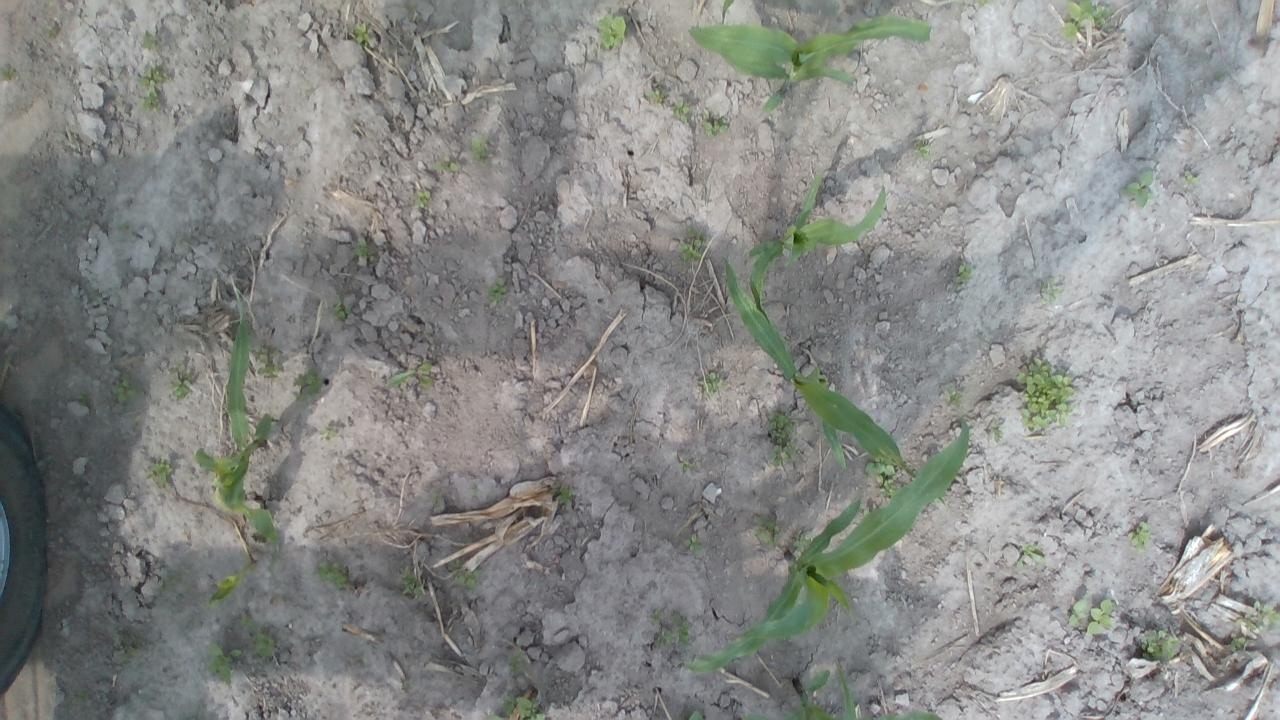Maize: (682, 416, 970, 672), (722, 256, 916, 478), (688, 18, 932, 115), (744, 167, 886, 314), (197, 312, 280, 542), (801, 668, 828, 718), (844, 661, 858, 720), (864, 712, 940, 720), (719, 0, 737, 21), (686, 708, 706, 720), (740, 716, 769, 720)
Weeds: (1016, 358, 1078, 431), (1064, 0, 1106, 37), (490, 697, 547, 720), (1122, 167, 1154, 207), (136, 65, 164, 110), (1138, 629, 1180, 658), (770, 414, 793, 466), (208, 644, 241, 680), (659, 611, 693, 645), (753, 510, 784, 545), (1085, 600, 1115, 636), (598, 15, 626, 50), (148, 456, 175, 488), (258, 346, 284, 378), (866, 460, 895, 488), (471, 130, 492, 160), (112, 379, 136, 404), (1018, 546, 1044, 568), (385, 369, 415, 388), (294, 374, 324, 393), (702, 116, 730, 136), (1255, 602, 1280, 624), (672, 95, 691, 123), (1066, 598, 1087, 623), (70, 688, 96, 708), (681, 237, 702, 261), (1128, 522, 1148, 547), (958, 254, 974, 285), (416, 360, 431, 392), (255, 633, 277, 654), (552, 480, 572, 503), (170, 380, 190, 399), (432, 487, 447, 512), (430, 156, 456, 170), (1, 62, 20, 81), (325, 422, 344, 441), (312, 558, 333, 574), (1228, 633, 1246, 650), (41, 22, 60, 38), (140, 32, 156, 51), (912, 140, 928, 159), (352, 22, 367, 42), (705, 372, 720, 392), (332, 303, 350, 319), (456, 570, 476, 584), (490, 278, 508, 292), (403, 576, 417, 594), (416, 190, 432, 205), (946, 390, 962, 405), (680, 457, 696, 472), (334, 570, 348, 587), (353, 243, 368, 258), (508, 655, 522, 671), (651, 88, 666, 102), (882, 481, 895, 497), (684, 534, 698, 548), (990, 429, 1004, 442), (650, 610, 668, 620), (240, 610, 252, 624), (1184, 170, 1196, 184), (972, 0, 989, 8), (79, 391, 90, 402)
